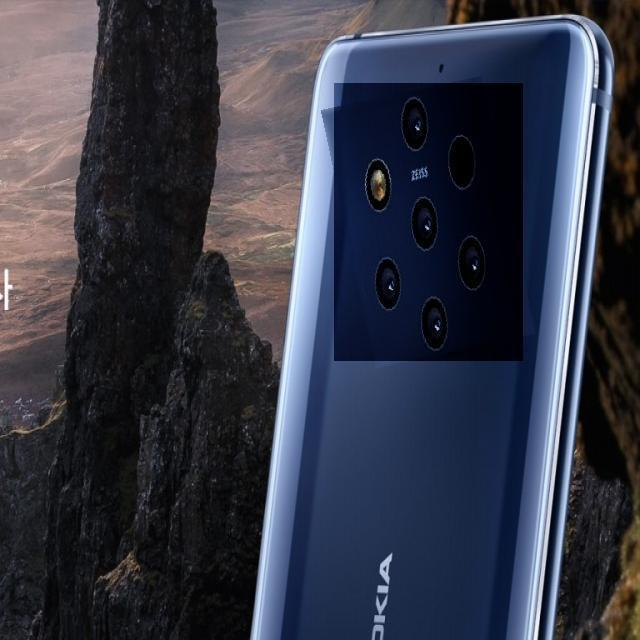lens: (362, 93, 496, 356)
phone: (244, 16, 615, 640)
